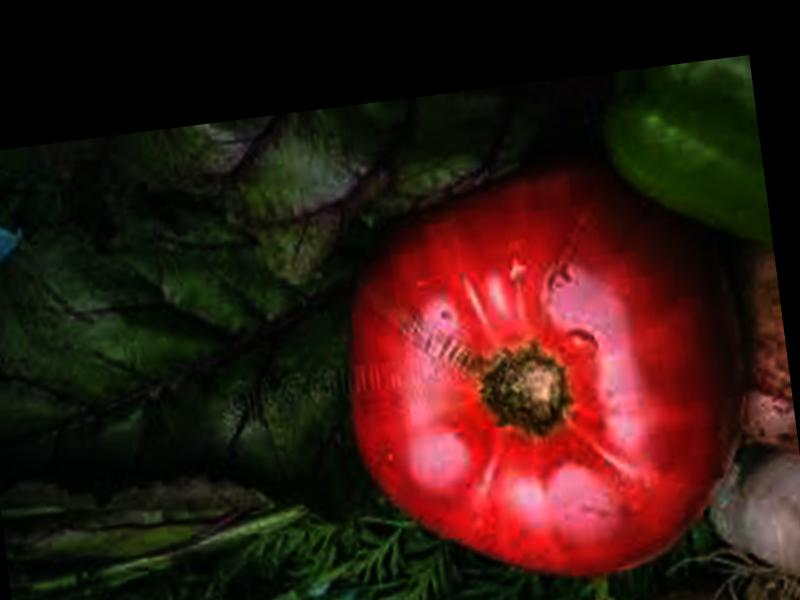Tomato: (323, 134, 774, 600)
